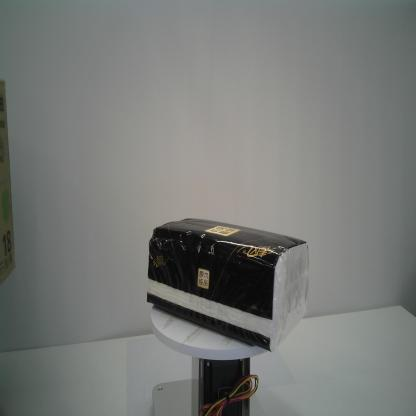Tissue: (144, 215, 310, 355)
